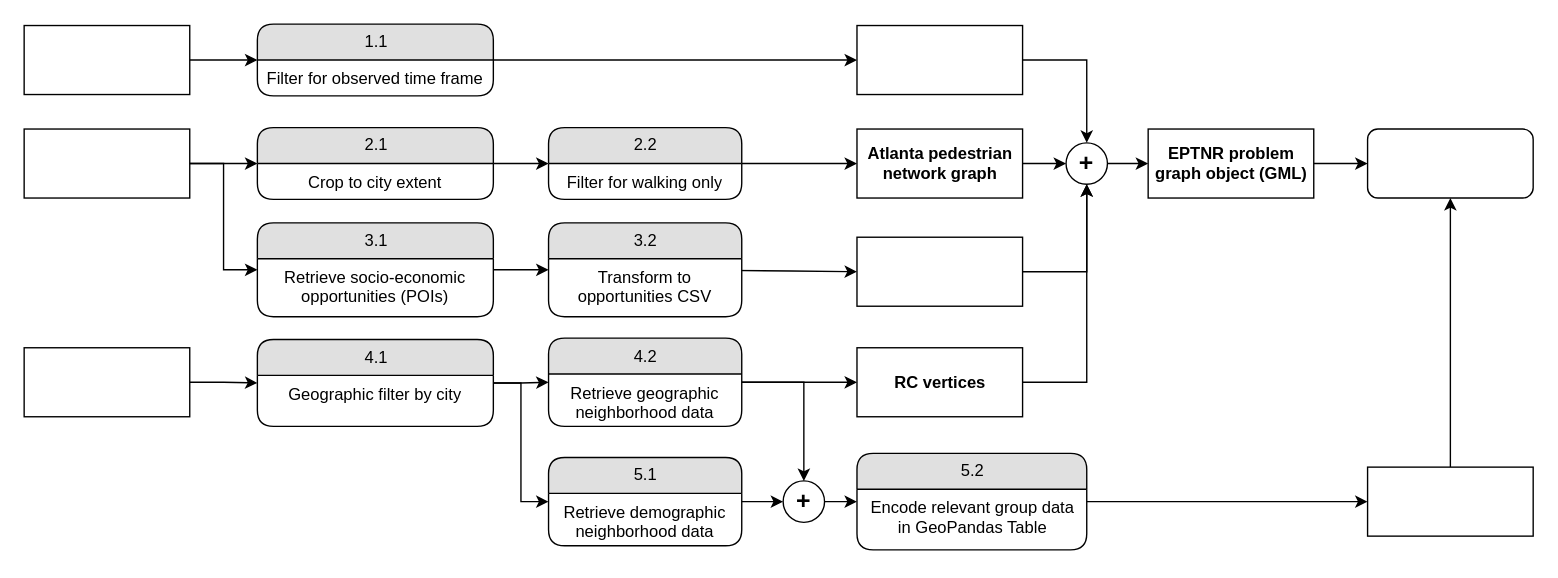
Image size: 1558x578. Some labels were removed from this diagram. The shapes that lost their labels are listed below. From the top down, each one's centre as x and y in pixels, then its label:
At pixel 106 59: "TransitLand GTFS Feed".
At pixel 939 59: "Spatio-temporal PT graph".
At pixel 106 163: "Geofabrik OSM".
At pixel 1449 163: "EPTNR solving environment".
At pixel 939 271: "Socio-economic POI vertices".
At pixel 106 381: "US Census Data".
At pixel 1449 501: "RC group census object (PARQUET)".
